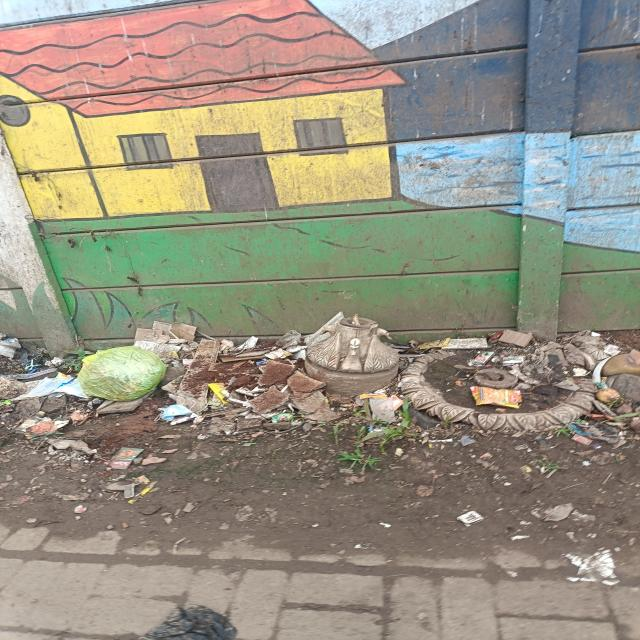garbage: (3, 329, 640, 452)
